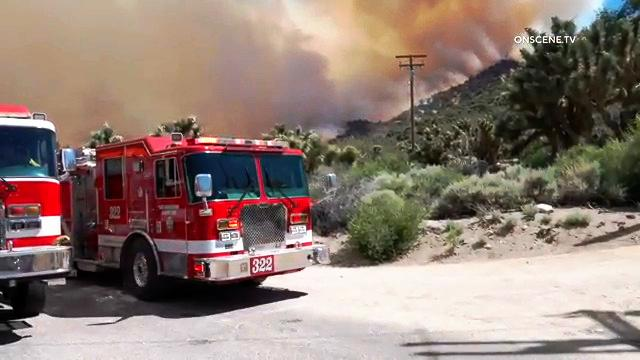smoke: (260, 0, 407, 60)
